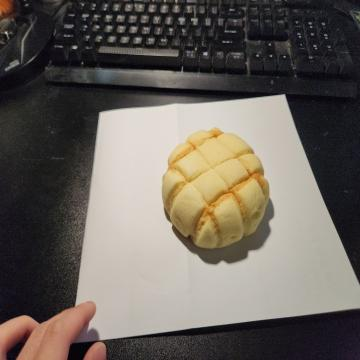melon_bread: (163, 127, 270, 254)
